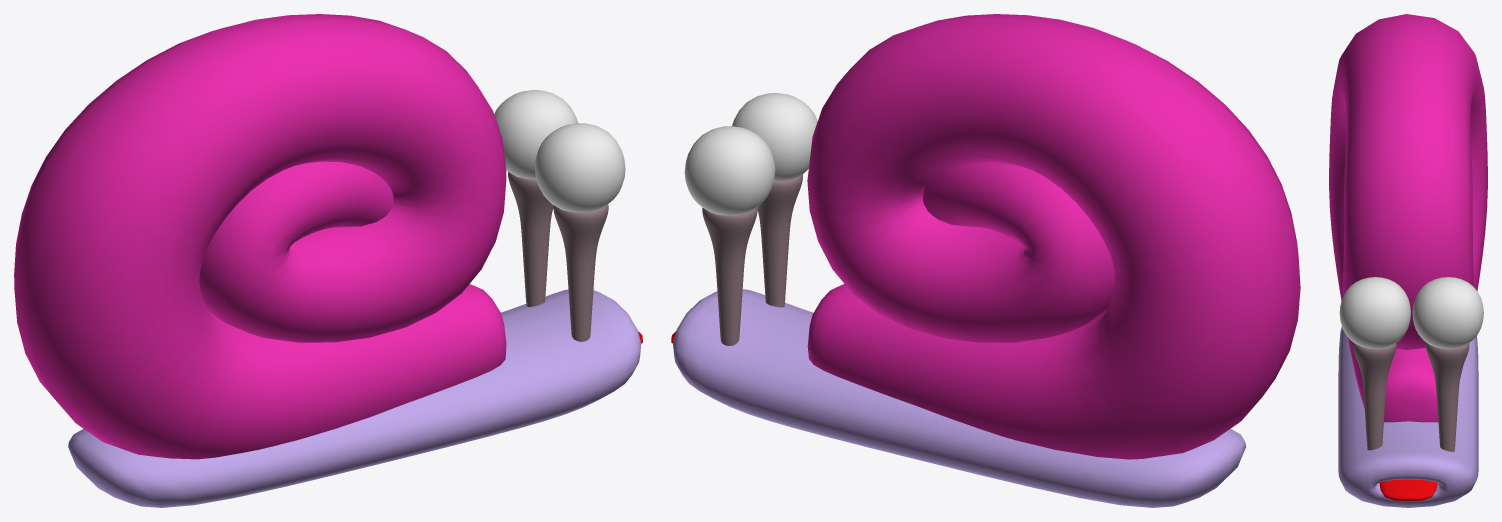
The model's file is escargoBoss.fbx.
3 views of the same model, side by side, from view 1: azimuth 30°, elevation 25°; view 2: azimuth 150°, elevation 25°; view 3: azimuth 270°, elevation 25° (orthographic). The views are drawn at different scales.
Visible parts, largest first — view 1: Vert, Cube, Vert.001, Vert.002; view 2: Vert, Cube, Vert.002, Vert.001; view 3: Vert, Cube, Vert.002, Vert.001.
Part boxes in pixels (<box>): Vert: <box>14,14,506,459</box>; Cube: <box>68,289,642,507</box>; Vert.001: <box>535,123,625,341</box>; Vert.002: <box>494,90,577,306</box>; Vert: <box>807,14,1300,459</box>; Cube: <box>671,289,1246,507</box>; Vert.002: <box>684,126,775,345</box>; Vert.001: <box>732,93,817,307</box>; Vert: <box>1329,14,1487,422</box>; Cube: <box>1338,326,1478,507</box>; Vert.002: <box>1412,277,1483,451</box>; Vert.001: <box>1339,277,1410,450</box>.
Size of the model in its own units: 274 by 191 by 77.22.
